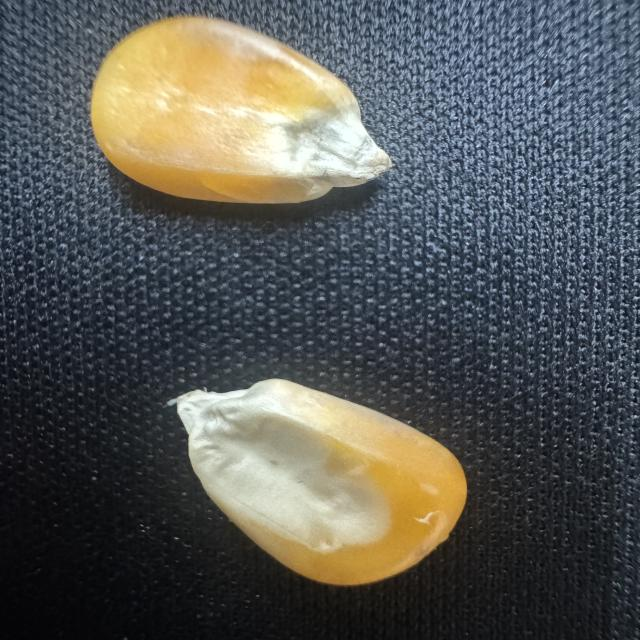Good-Seed: (153, 372, 478, 594), (85, 8, 401, 224)
